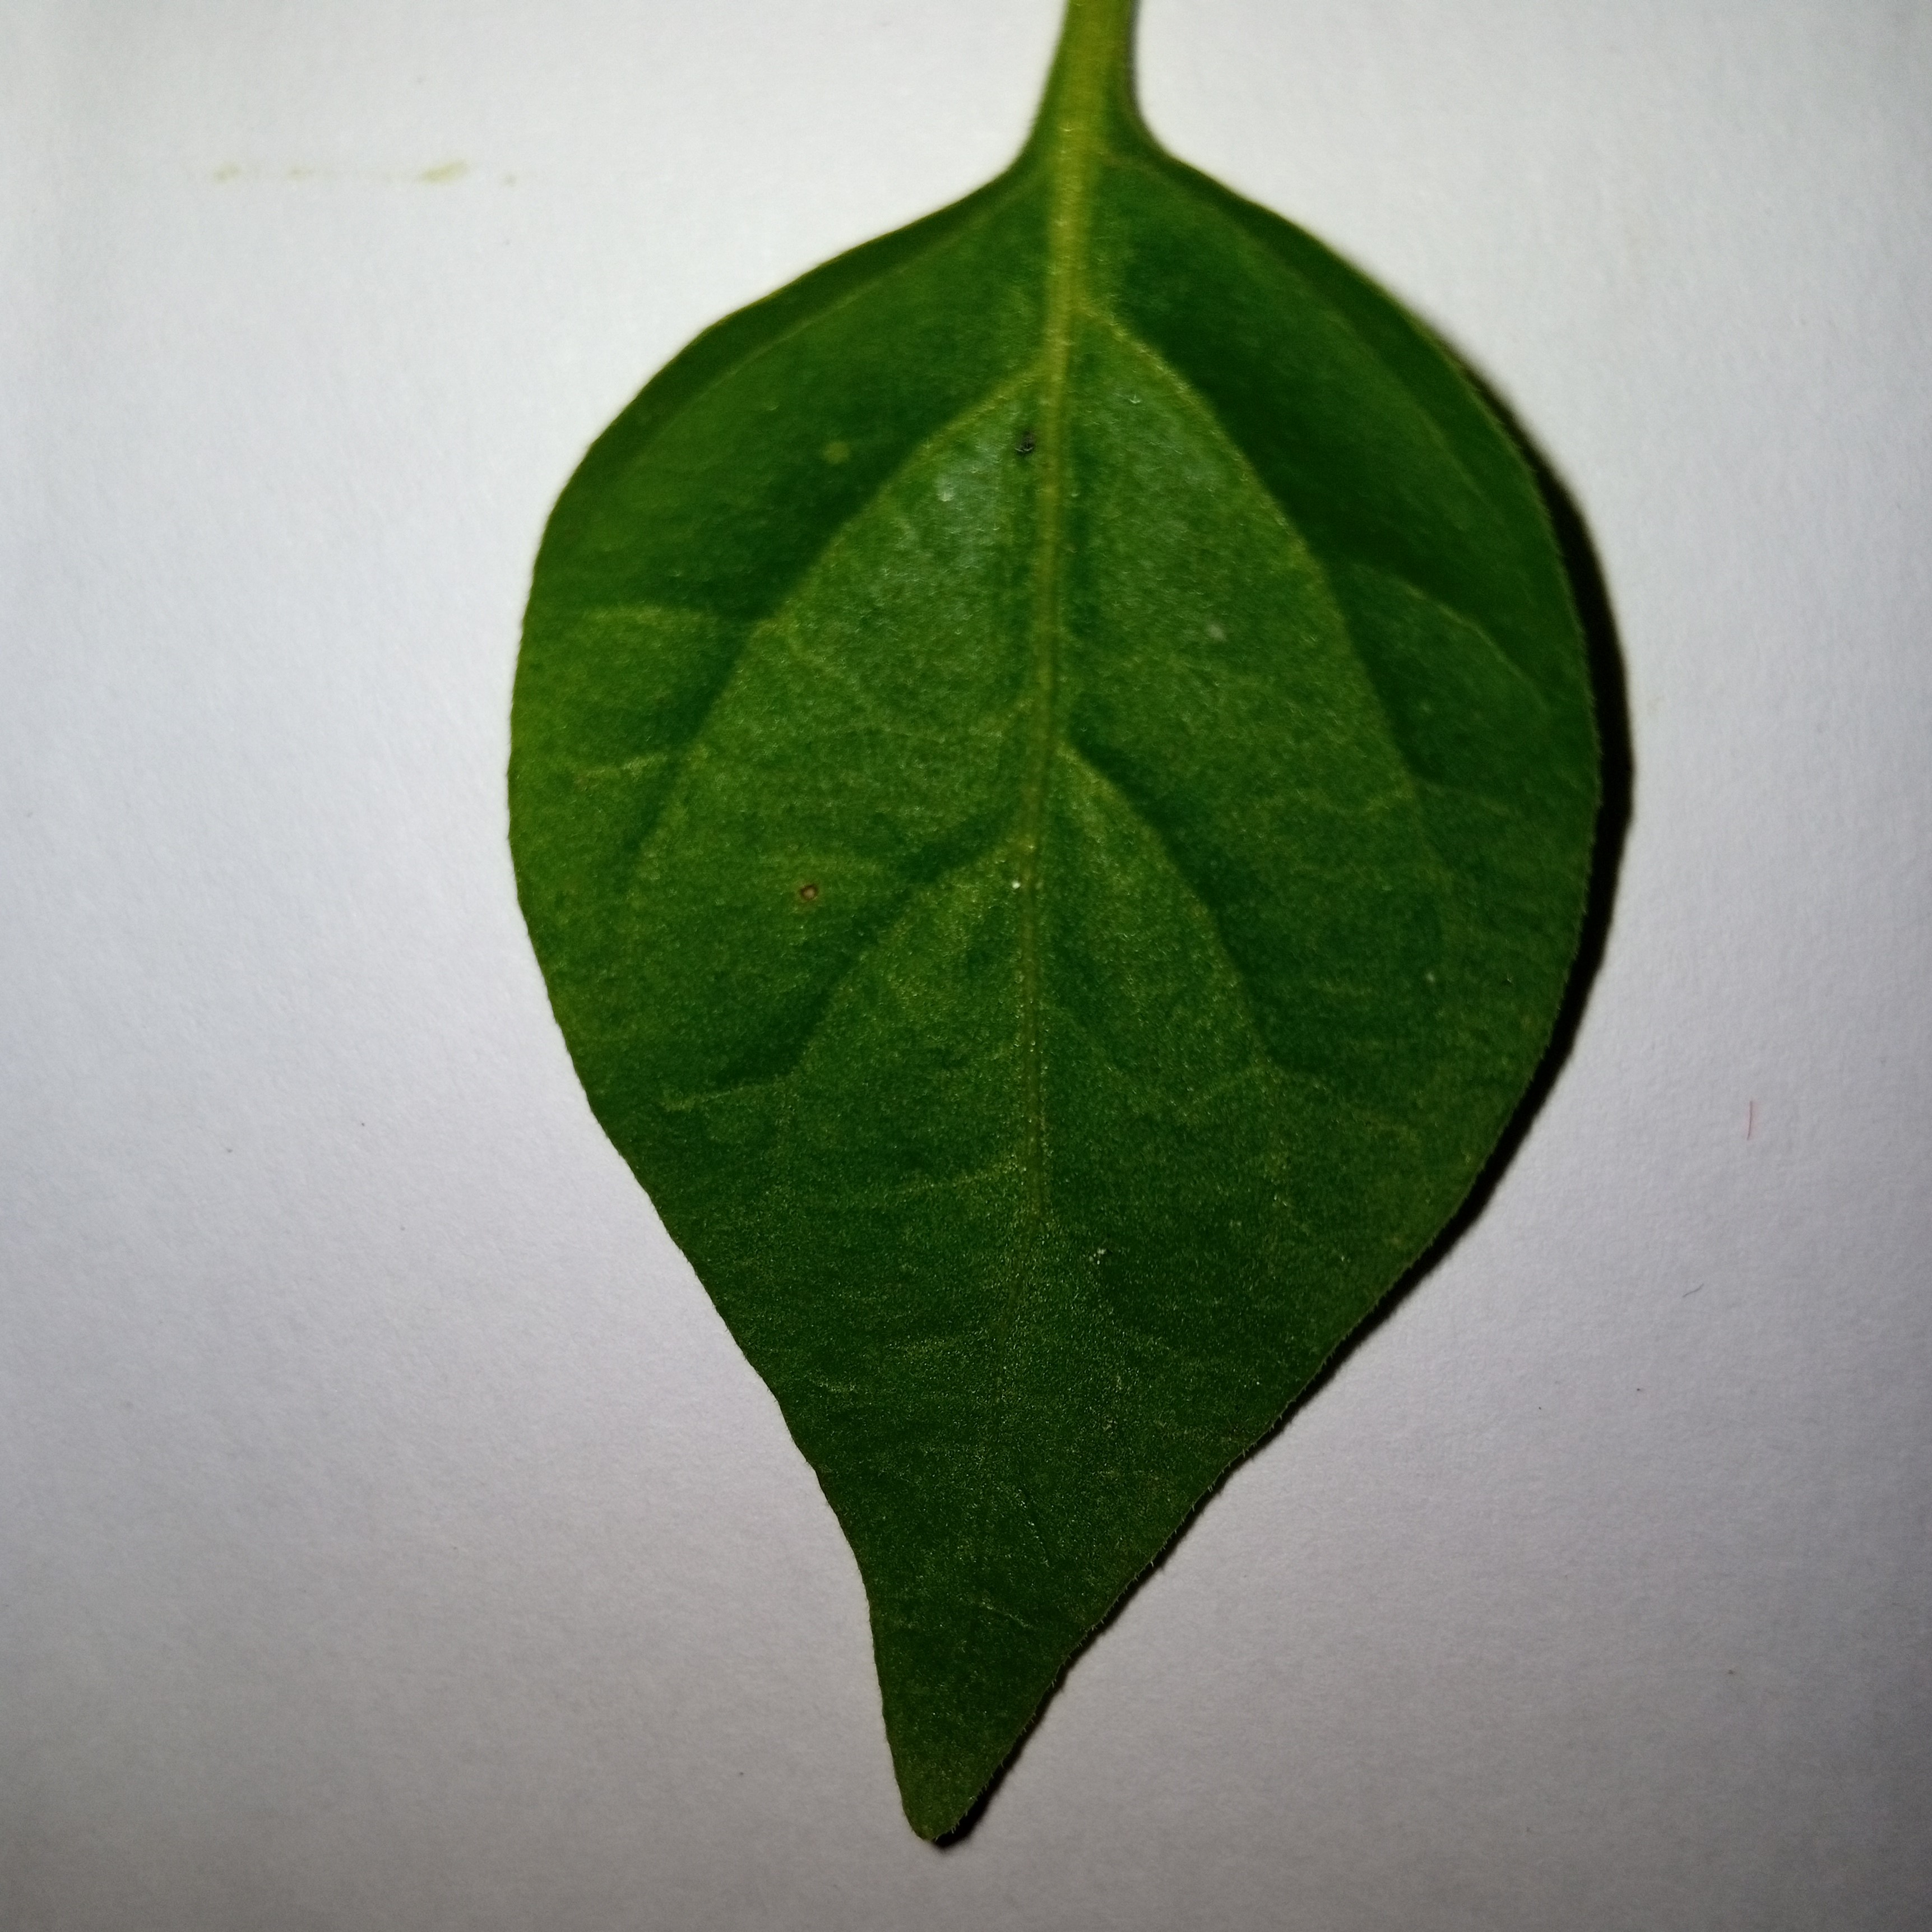Leaf: (308, 83, 1658, 1916)
